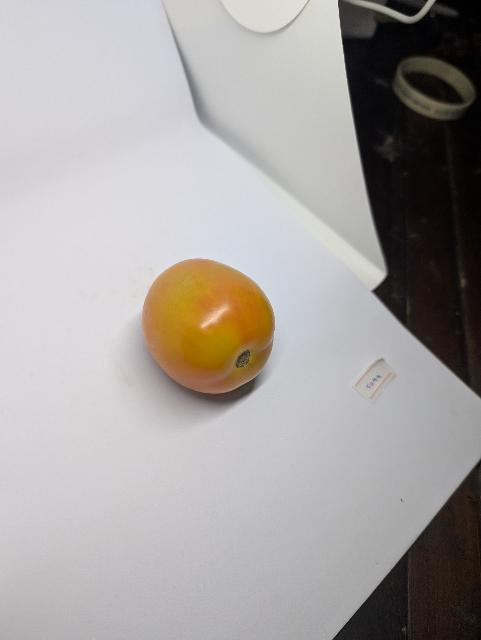turning: (134, 250, 289, 402)
